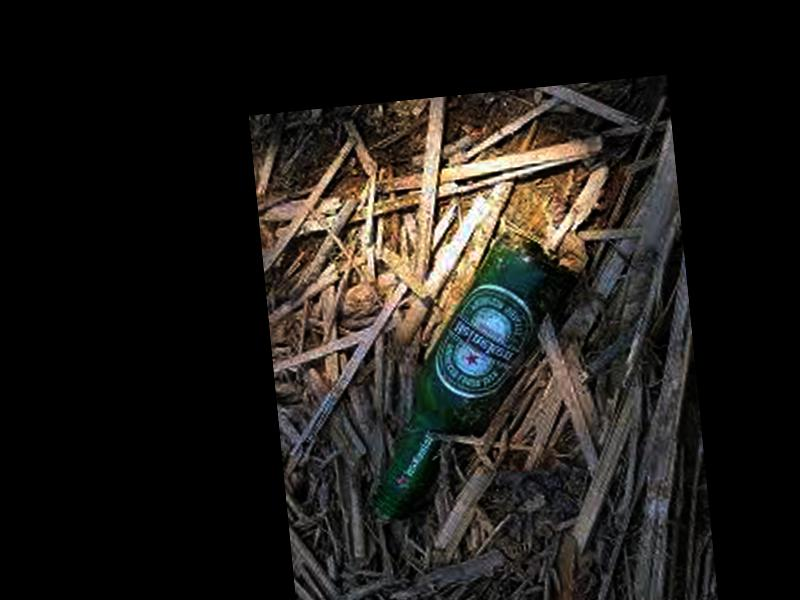Beer: (351, 228, 595, 524)
